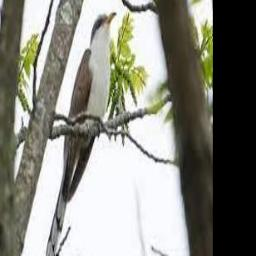Cuckoo: (47, 11, 118, 256)
